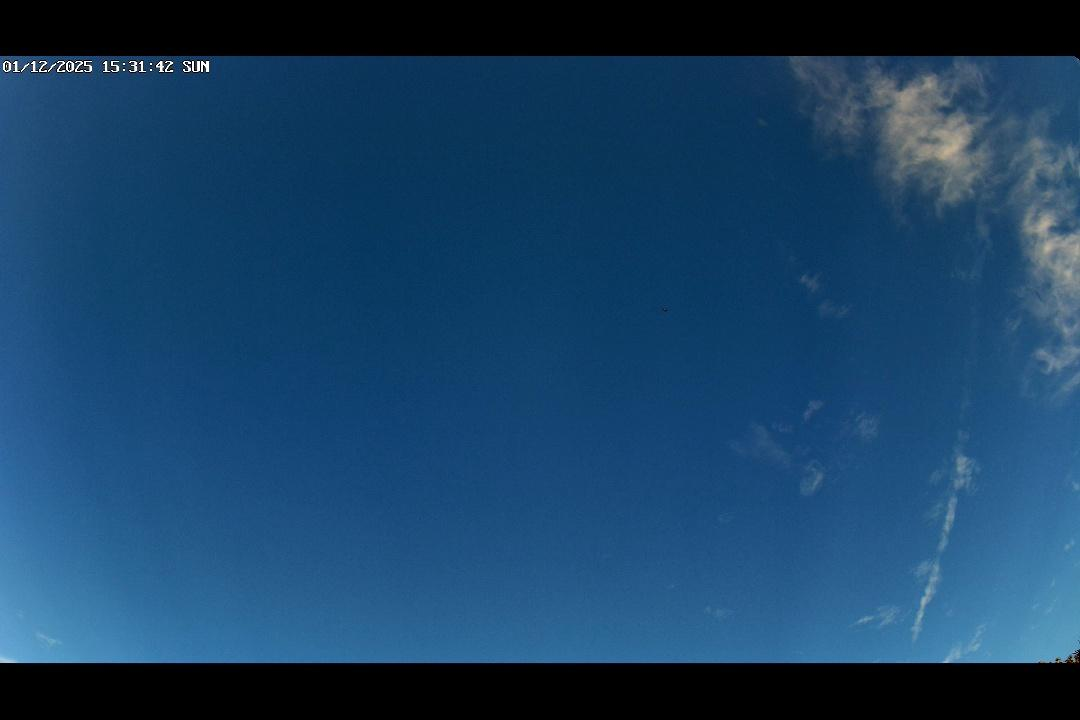WildLife: (658, 302, 676, 315)
